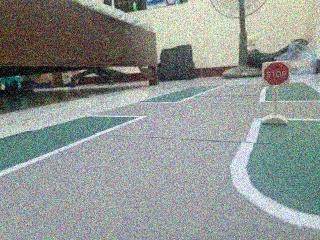stop: (259, 58, 293, 89)
